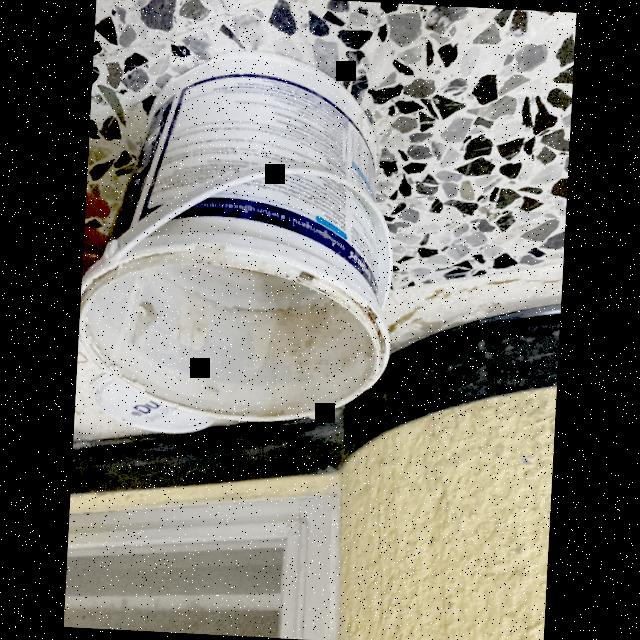paint_bucket: (75, 42, 408, 430)
